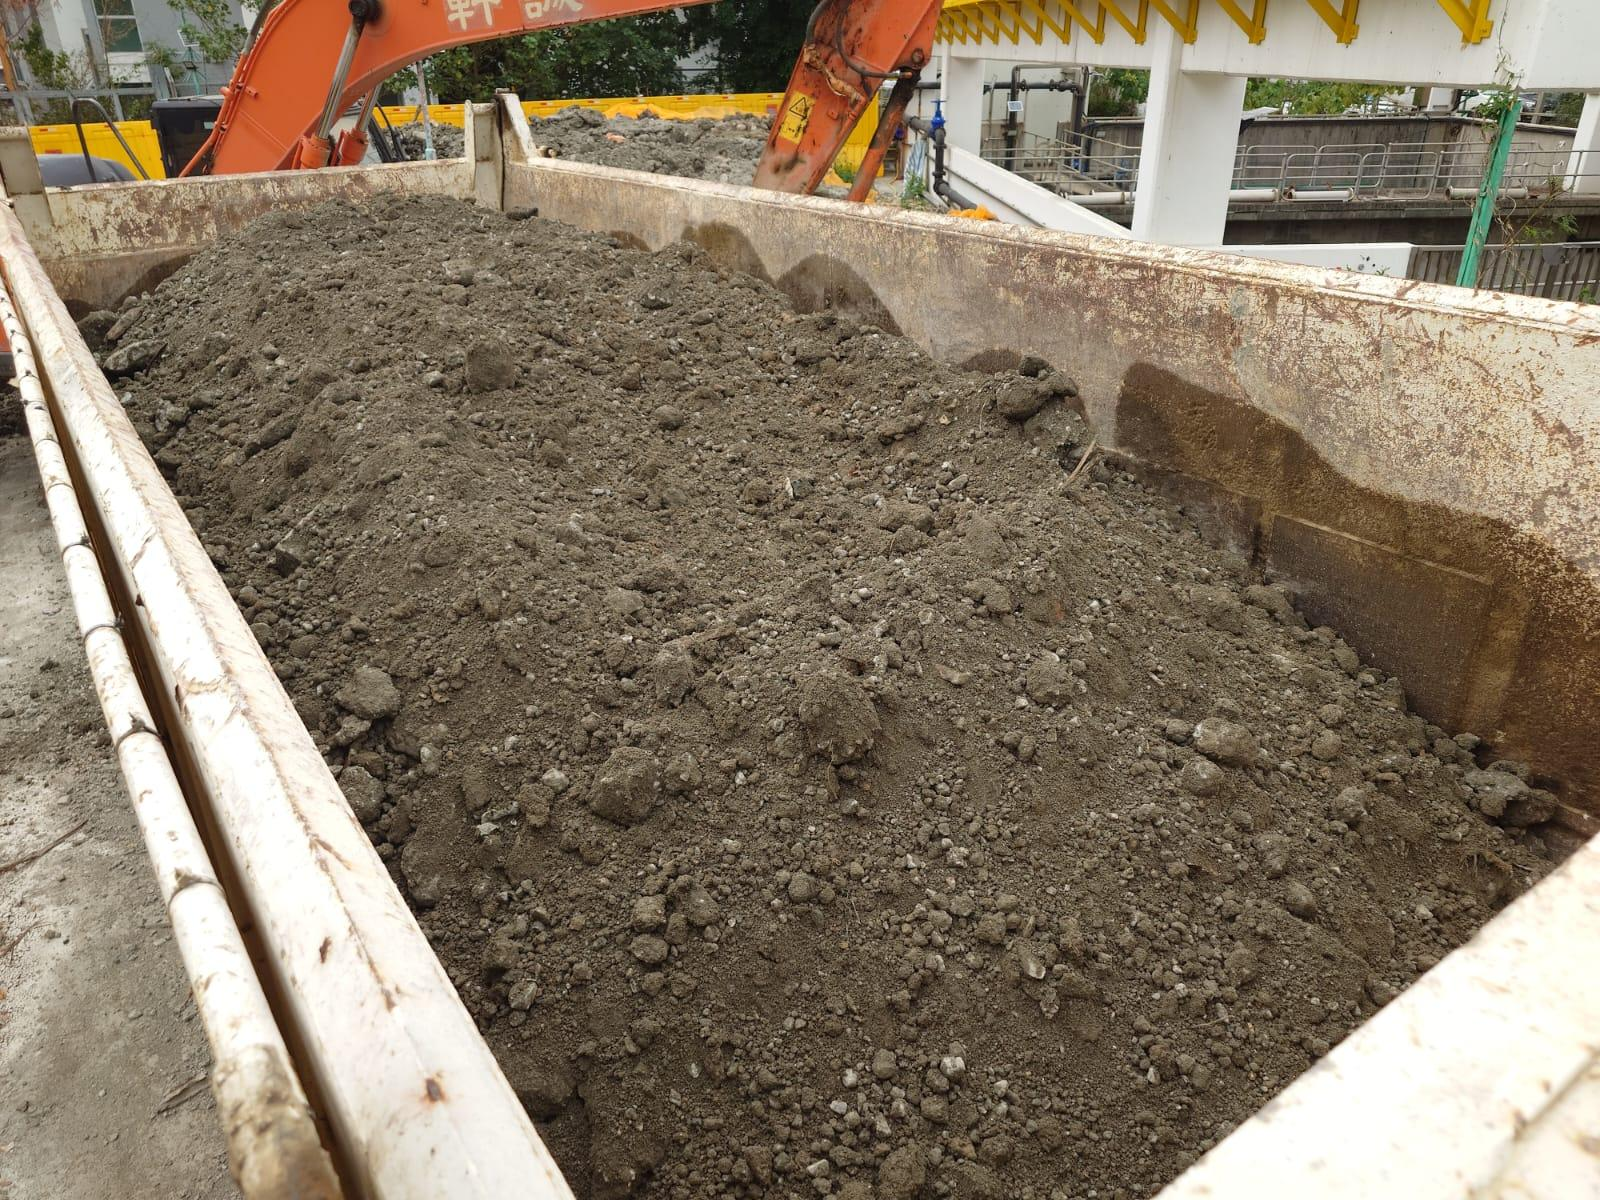wet: (83, 195, 1545, 1200)
